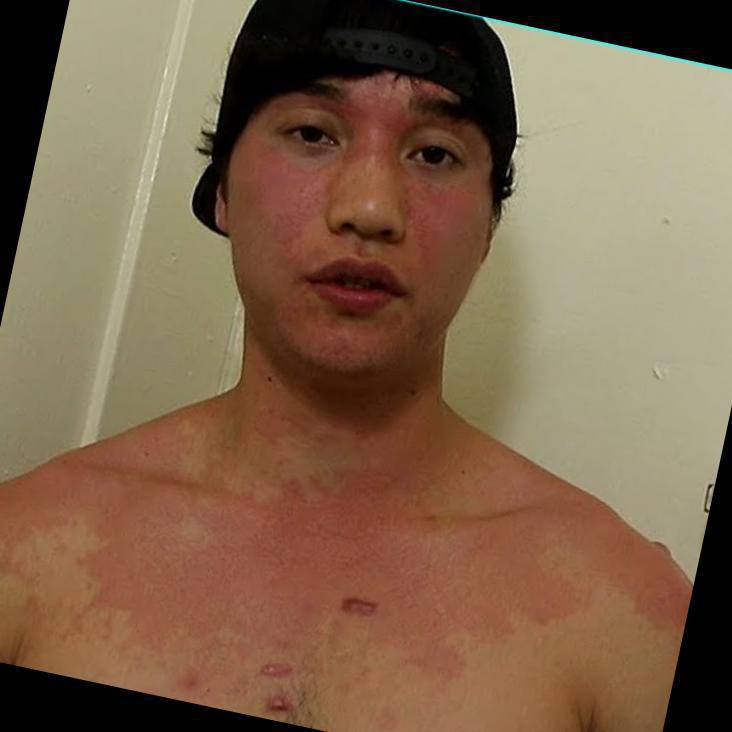Drunk: (247, 79, 481, 367)
